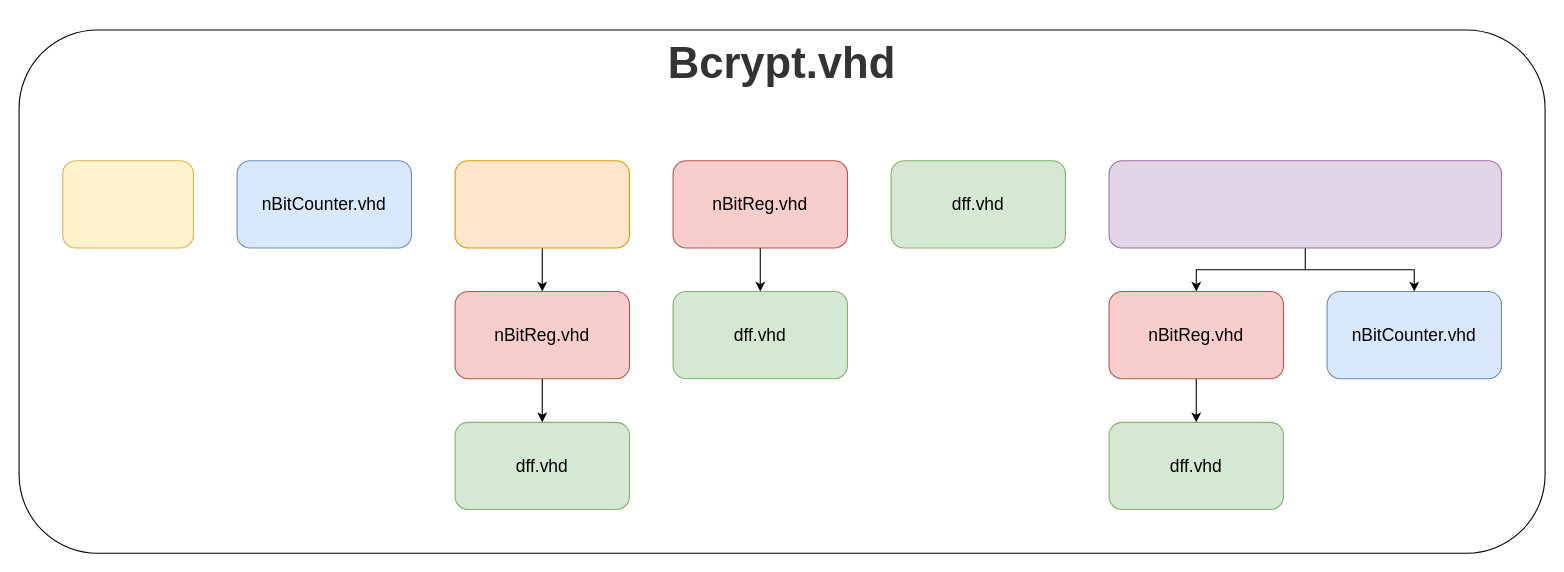
The diagram is 1564 pixels wide and 572 high, and some of its shapes have lost their labels. The shapes that lost their labels are listed below. From the top down, each one's centre as x and y in pixels, then its label:
At point (127, 204): "bram.vhd".
At point (541, 204): "nxmBitShiftReg.vhd".
At point (1304, 204): "blowfish_encryption.vhd".
